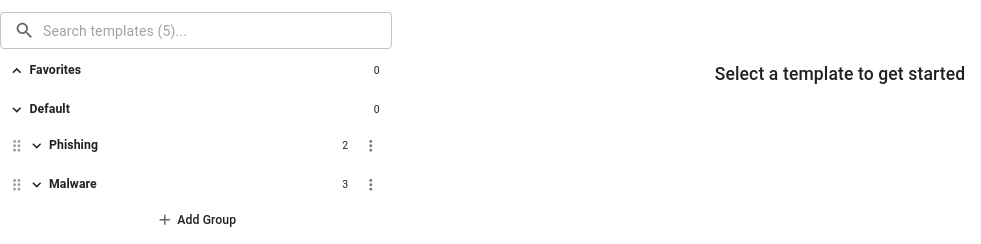
Test: TemplatesView › search filters the list
Type "b2" into the field with placeholder "Search templates (5)...".
click(218, 31); type("b2")  # box [43,12,392,49]
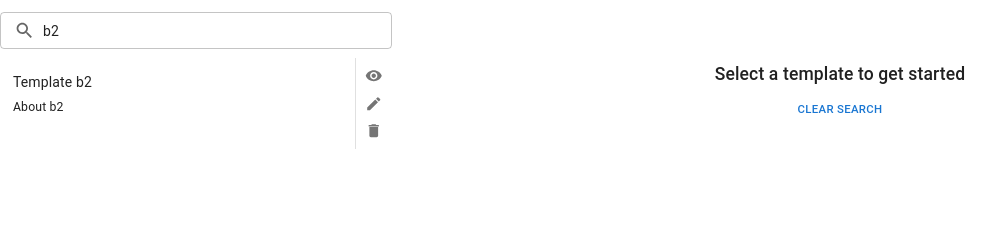
Expected: the heading "Template b2" is shown, [13,74,92,90]
Replace the text in the field with placeholder "Search templates (5)..." with "nothing-matches" at (218, 31), box [43,12,392,49]
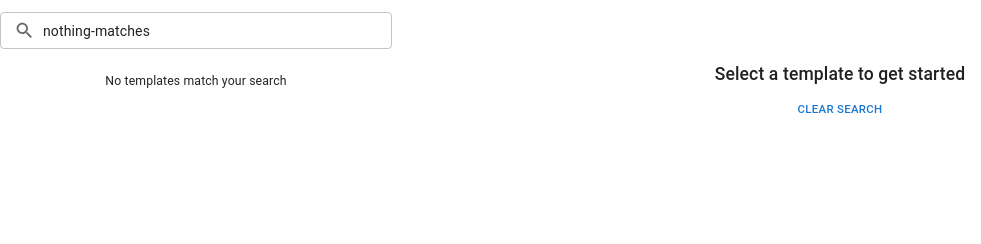
Expected: the text "No templates match your search" is shown, [105,74,287,88]
